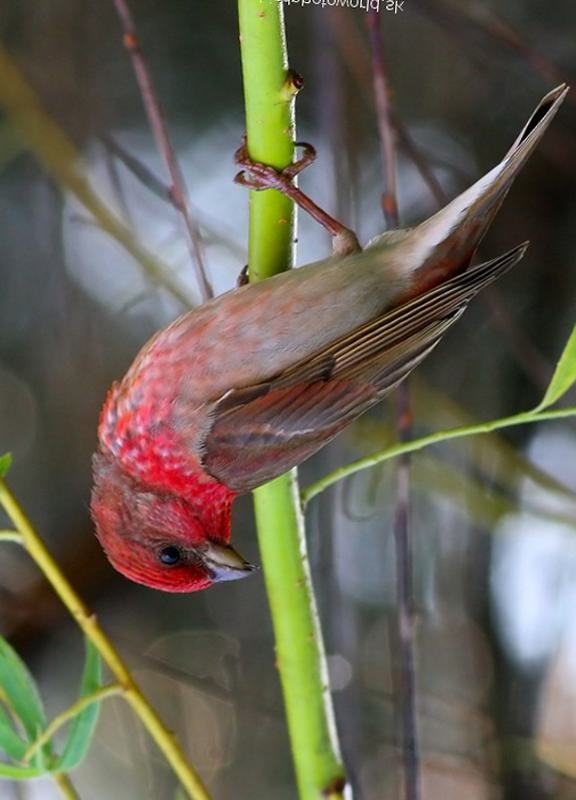rosefinch: (75, 124, 576, 610)
